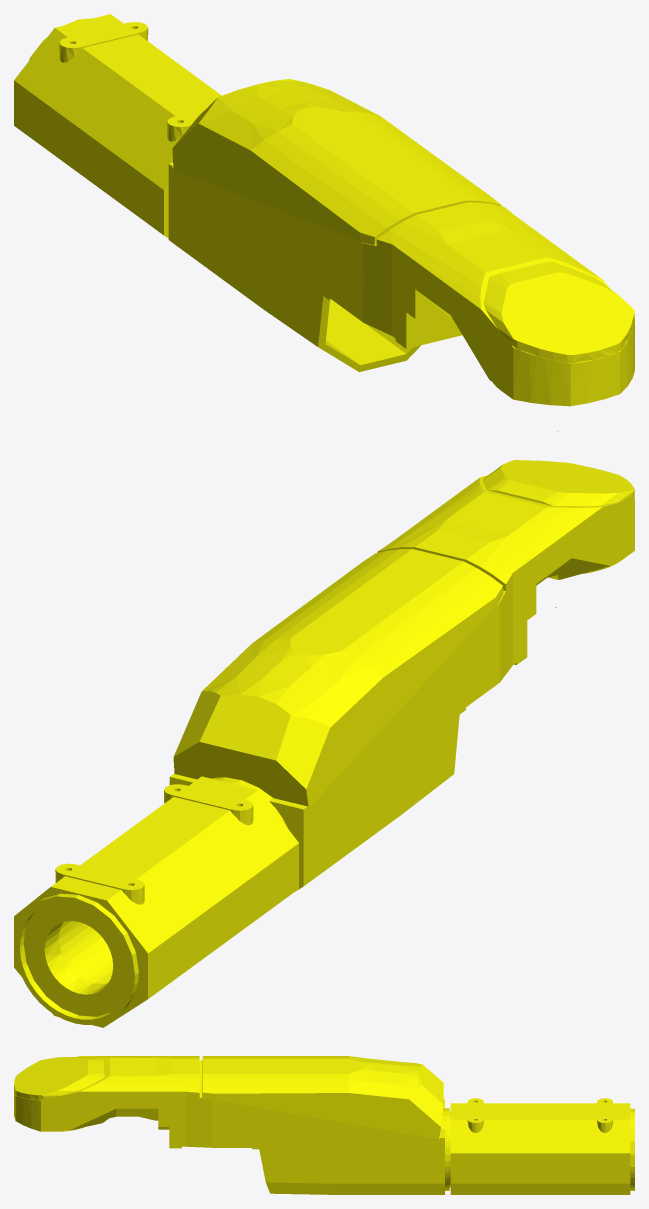
3 renders of one model, top to bottom at view 1: azimuth 30°, elevation 25°; view 2: azimuth 150°, elevation 25°; view 3: azimuth 270°, elevation 25°, orthographic. The views are drawn at different scales.
Parts seen in each view (by area): view 1: node; view 2: node; view 3: node.
Part boxes in pixels (<box>): node: <box>14,14,634,431</box>; node: <box>14,460,634,1027</box>; node: <box>14,1056,634,1194</box>.
Bounding box in the file's own units: 110 × 160 × 737.
